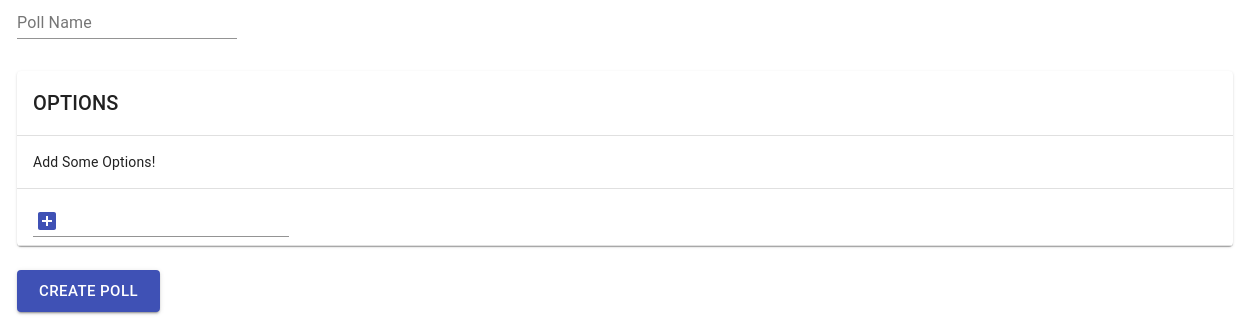
Test: CreatePollForm › should display options added by the user
Type "Umber" into the field with test id "option-input" at (179,221), box [69, 205, 289, 237]
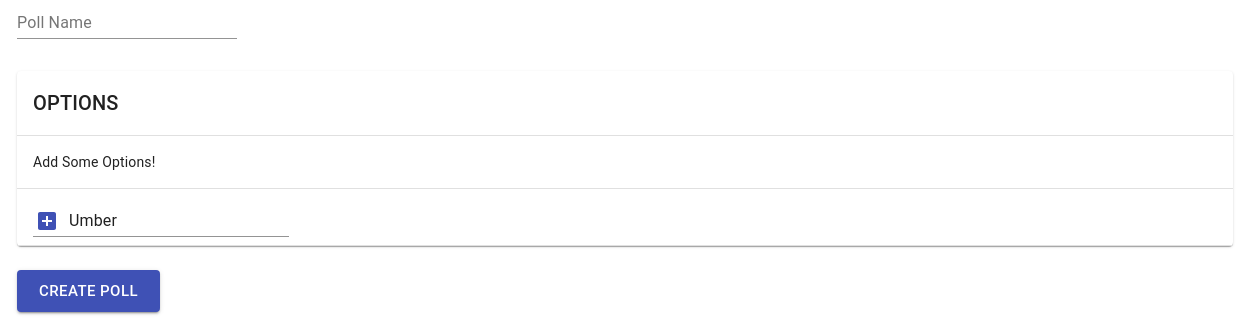
Click the button named "submitOption" at (47,221), box [33, 207, 61, 235]
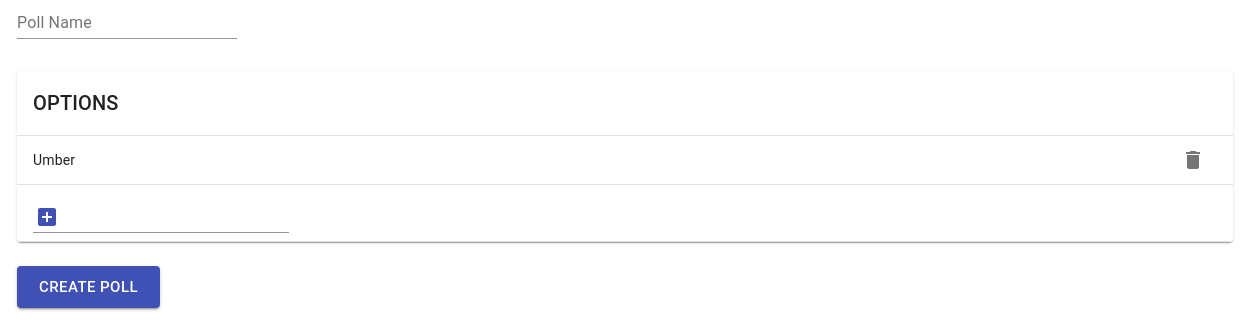
Expected: the text "Umber" is shown, [33, 150, 75, 170]
